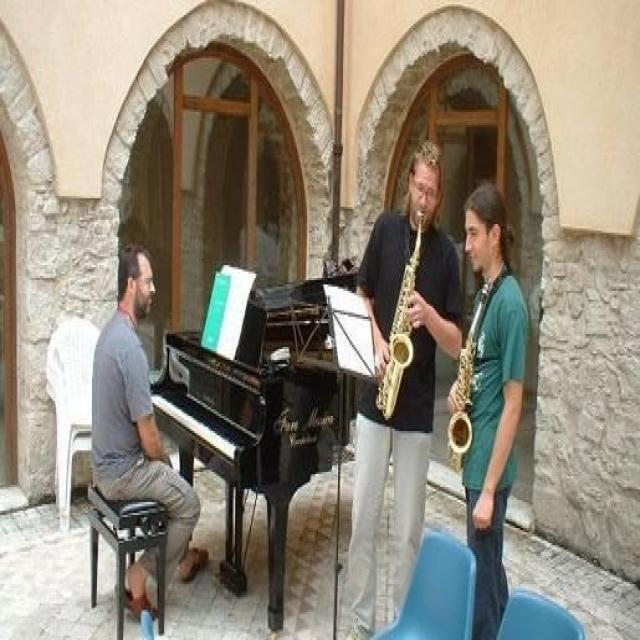saxophone: (374, 208, 431, 414), (446, 272, 494, 470)
